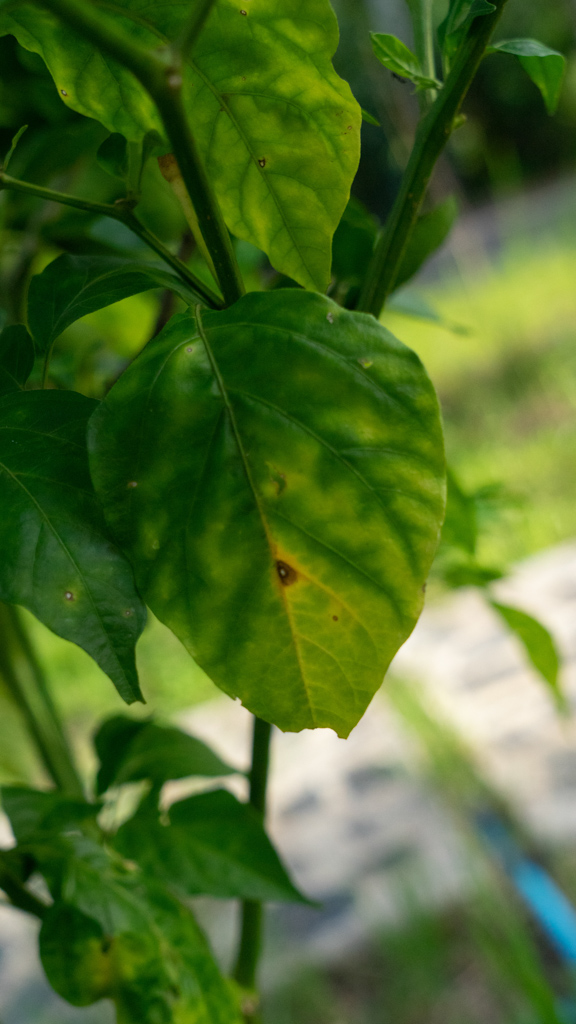frog-eye leafspot: (258, 534, 319, 605), (52, 584, 90, 606)
